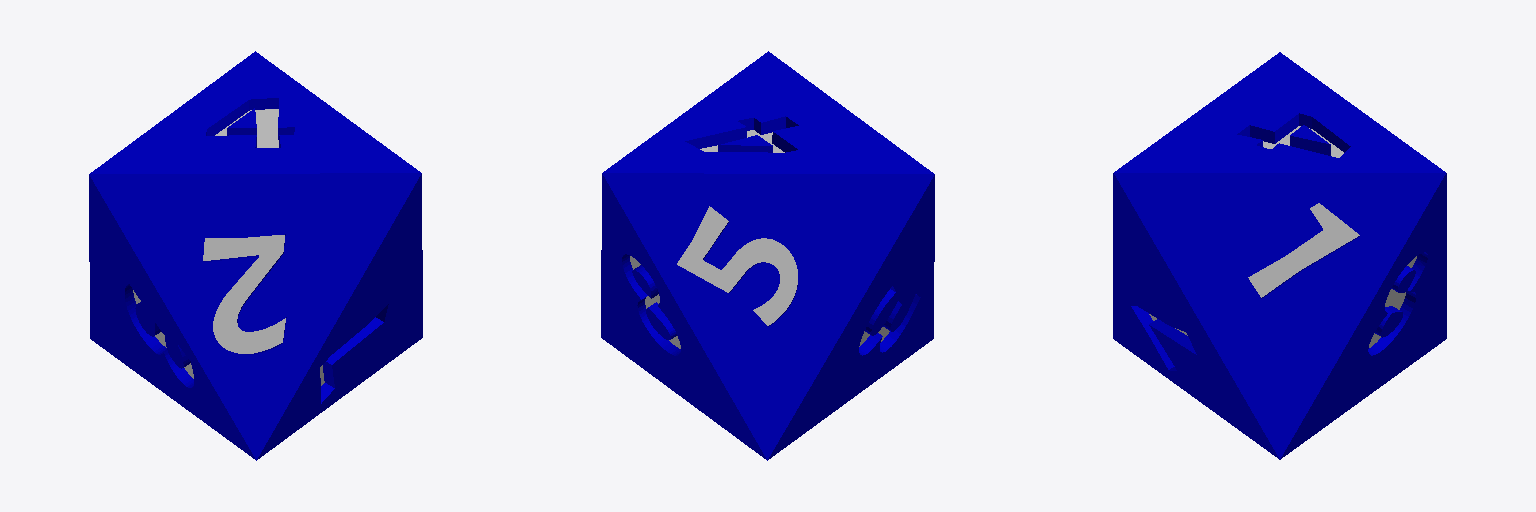
The model's file is Dice8.obj.
The picture shows the model from 3 angles: view 1: azimuth 30°, elevation 25°; view 2: azimuth 150°, elevation 25°; view 3: azimuth 270°, elevation 25°; orthographic projection.
Visible parts, largest first — view 1: D8_14mm; view 2: D8_14mm; view 3: D8_14mm.
Part boxes in pixels (left/top/right/bottom): D8_14mm: left=89, top=51, right=422, bottom=460; D8_14mm: left=601, top=51, right=934, bottom=460; D8_14mm: left=1113, top=52, right=1446, bottom=459.
Size of the model in its own units: 1.98 by 1.4 by 1.71.